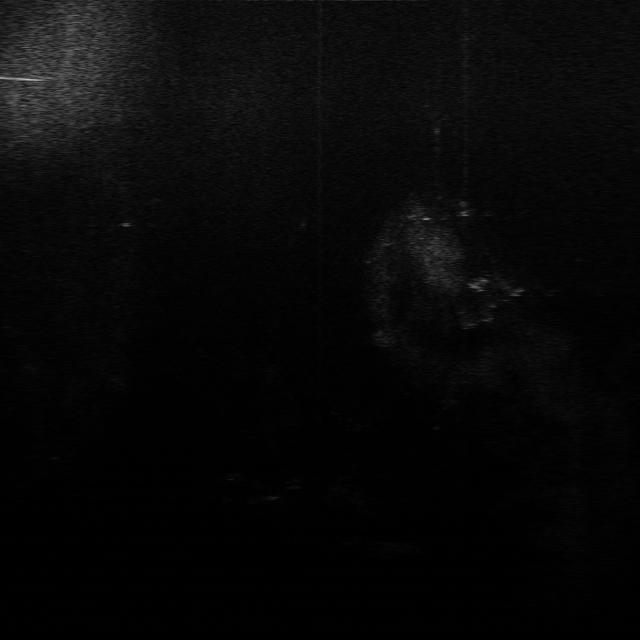rov: (468, 274, 492, 296)
